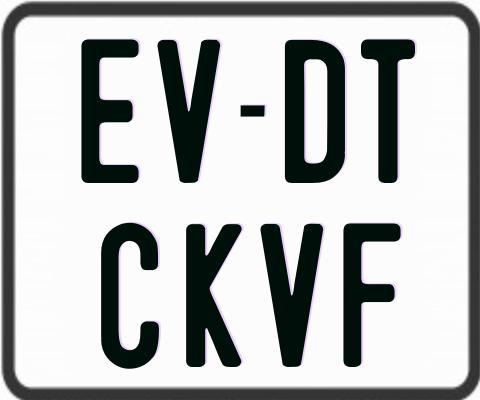C: (101, 222, 165, 372)
D: (282, 40, 342, 189)
E: (81, 36, 140, 181)
F: (343, 220, 407, 368)
K: (184, 221, 240, 366)
T: (358, 36, 416, 181)
V: (258, 223, 323, 370), (158, 37, 220, 182)
